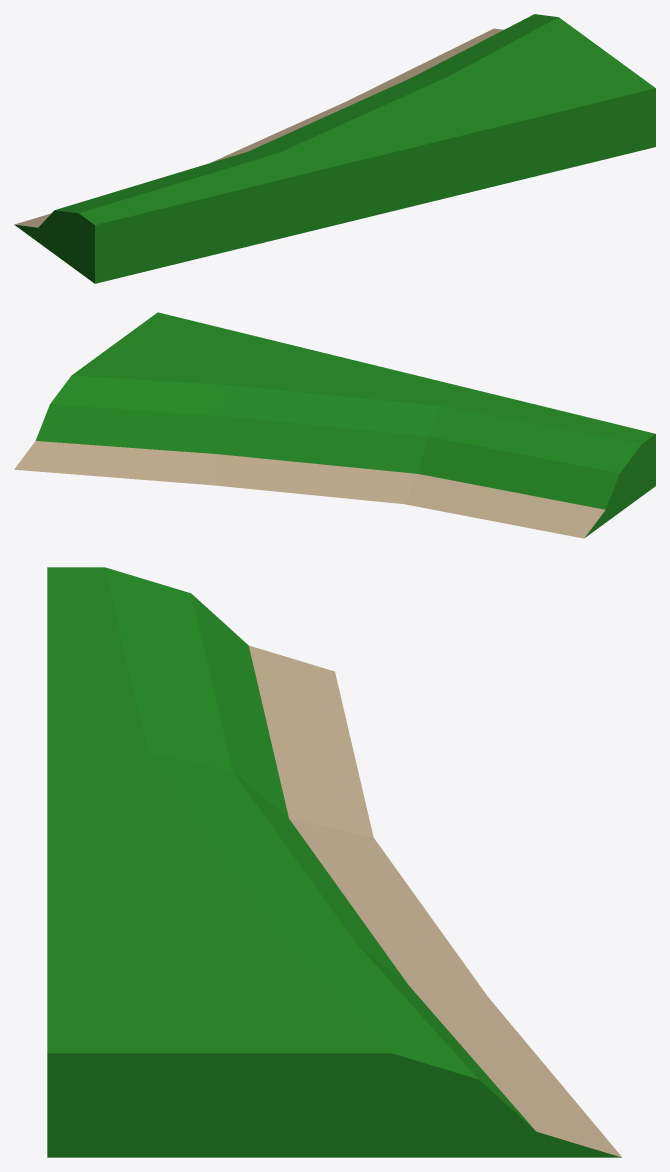
Rendered from path_edge_corner_split_x2.obj.
3 views of the same model, one above another, from view 1: azimuth 30°, elevation 25°; view 2: azimuth 150°, elevation 25°; view 3: azimuth 270°, elevation 25° (orthographic). The views are drawn at different scales.
Parts seen in each view (by area): view 1: 2Outer.002_Circle.015; view 2: 2Outer.002_Circle.015; view 3: 2Outer.002_Circle.015.
Boxes of the visible parts, bbox=[...] form: 2Outer.002_Circle.015: bbox=[14, 14, 655, 283]; 2Outer.002_Circle.015: bbox=[14, 312, 655, 538]; 2Outer.002_Circle.015: bbox=[47, 567, 621, 1157].
Bounding box in the file's own units: 2 × 0.2 × 1.
